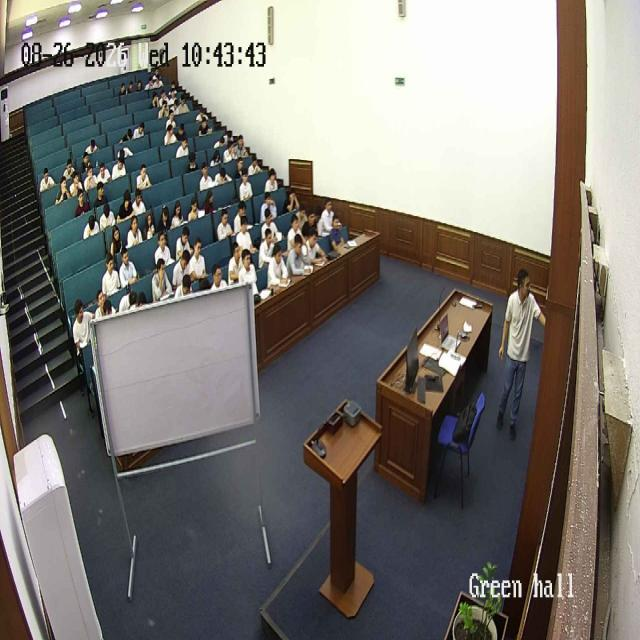person: (496, 268, 546, 440), (72, 299, 95, 389), (267, 242, 290, 289), (286, 232, 310, 276), (302, 225, 326, 268), (238, 249, 258, 299), (151, 257, 173, 302), (101, 253, 121, 300), (174, 248, 194, 294), (188, 236, 208, 282), (328, 214, 350, 254), (119, 245, 138, 289), (236, 216, 256, 256), (317, 197, 336, 239), (258, 226, 276, 270), (227, 239, 244, 285), (286, 214, 306, 252), (154, 230, 172, 270), (260, 191, 278, 228), (94, 288, 114, 321), (126, 214, 144, 249), (302, 207, 320, 241), (117, 189, 135, 223), (110, 222, 126, 260), (75, 184, 92, 218), (82, 210, 100, 242), (99, 202, 117, 234), (92, 180, 110, 212), (238, 168, 254, 204), (142, 207, 158, 241), (233, 202, 249, 236), (285, 184, 302, 216), (217, 209, 233, 242), (199, 160, 215, 193), (171, 199, 187, 230), (68, 171, 85, 200), (210, 262, 228, 289), (54, 175, 70, 205), (263, 165, 279, 195), (110, 156, 128, 182), (135, 162, 151, 191), (39, 165, 55, 193), (188, 197, 204, 224), (133, 189, 147, 218), (204, 190, 217, 219), (214, 162, 228, 186), (247, 153, 261, 177), (233, 159, 247, 183), (176, 135, 190, 159), (163, 124, 177, 148), (223, 140, 237, 164), (177, 116, 189, 143), (192, 105, 209, 124), (96, 162, 110, 185), (63, 159, 77, 182), (236, 133, 248, 159), (213, 133, 226, 155), (121, 127, 134, 149), (149, 87, 161, 110), (143, 70, 154, 94), (152, 70, 163, 94), (177, 94, 189, 116), (156, 100, 168, 122), (186, 155, 199, 175), (79, 153, 92, 173), (166, 86, 176, 110), (169, 98, 180, 119), (199, 123, 211, 142), (86, 140, 98, 159), (164, 103, 173, 125), (135, 122, 145, 140), (159, 85, 167, 106), (154, 62, 162, 82), (136, 78, 144, 95), (127, 77, 134, 96), (119, 82, 126, 97), (170, 78, 176, 95)
